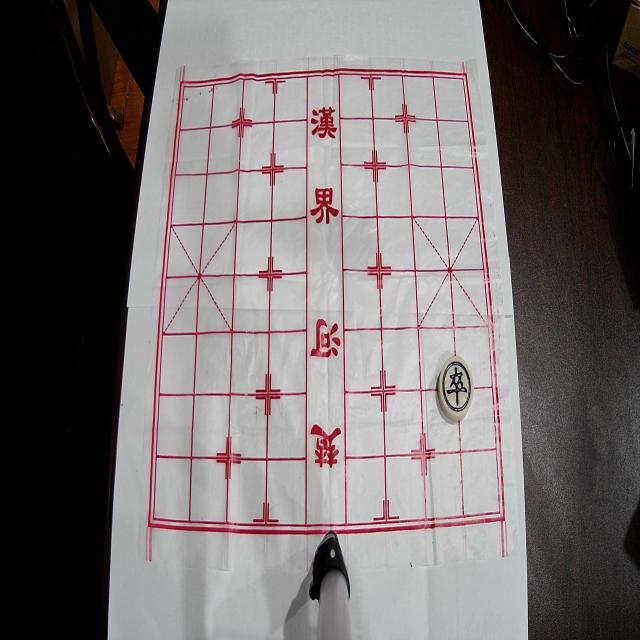black-soldier: (438, 356, 474, 421)
